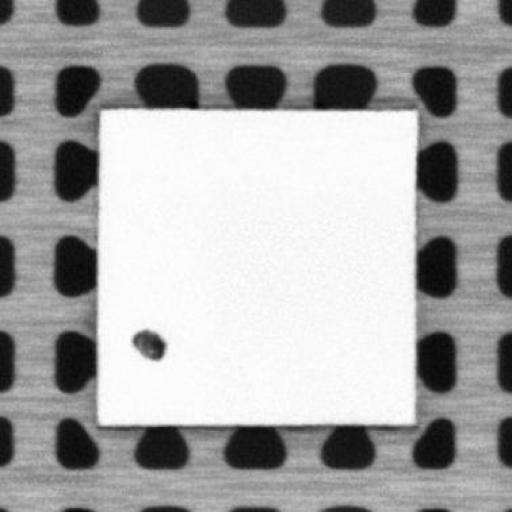DIE_INK: (126, 326, 168, 360)
